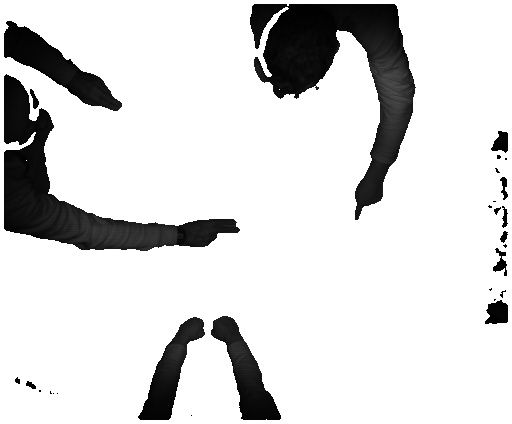fist: (175, 312, 209, 346), (211, 312, 245, 344)
hand: (352, 173, 391, 223), (74, 75, 127, 111), (183, 216, 239, 247)
